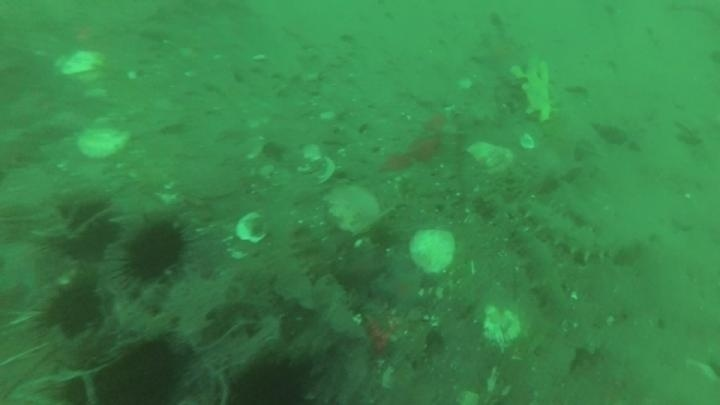echinus: (96, 339, 184, 404), (53, 195, 121, 261), (120, 219, 189, 284), (226, 354, 315, 404), (41, 281, 104, 338)
holothurian: (521, 198, 615, 266), (510, 225, 569, 316), (288, 224, 333, 285)
scallop: (323, 183, 382, 237), (75, 118, 131, 160), (53, 46, 107, 82)
starfish: (1, 235, 61, 296), (471, 26, 531, 81), (373, 264, 429, 316), (334, 250, 386, 294), (359, 307, 399, 362)
